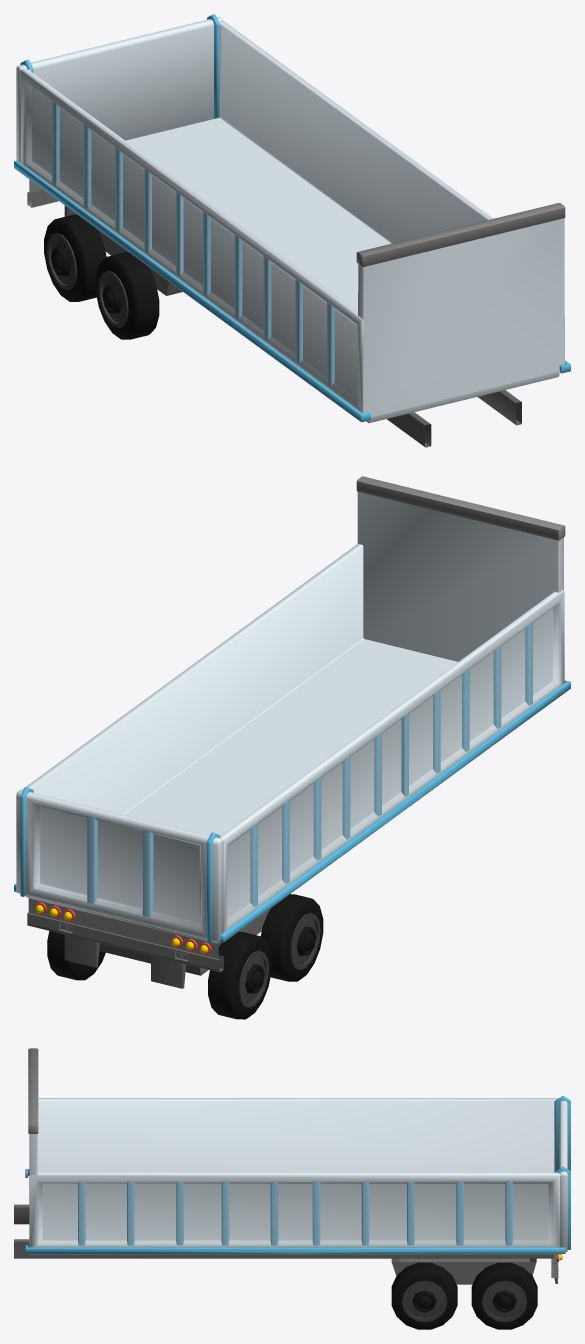
The model's file is Trailer_2_lvl2.fbx.
The picture shows the model from 3 angles, top to bottom: view 1: azimuth 30°, elevation 25°; view 2: azimuth 150°, elevation 25°; view 3: azimuth 270°, elevation 25°; orthographic projection. The views are drawn at different scales.
Visible parts, largest first — view 1: Object025, R3_067, R3_065; view 2: Object025, R3_065, R3_067, R3_064; view 3: Object025, R3_064, R3_066.
Boxes of the visible parts, x1=… form: Object025: x1=14, y1=14, x2=570, y2=447; R3_067: x1=95, y1=252, x2=159, y2=339; R3_065: x1=44, y1=214, x2=106, y2=301; Object025: x1=14, y1=476, x2=570, y2=988; R3_065: x1=208, y1=932, x2=271, y2=1019; R3_067: x1=261, y1=894, x2=323, y2=981; R3_064: x1=47, y1=931, x2=105, y2=980; Object025: x1=14, y1=1048, x2=570, y2=1284; R3_064: x1=471, y1=1262, x2=537, y2=1329; R3_066: x1=391, y1=1262, x2=457, y2=1329.
Size of the model in its own units: 3454 by 4243 by 10210.
